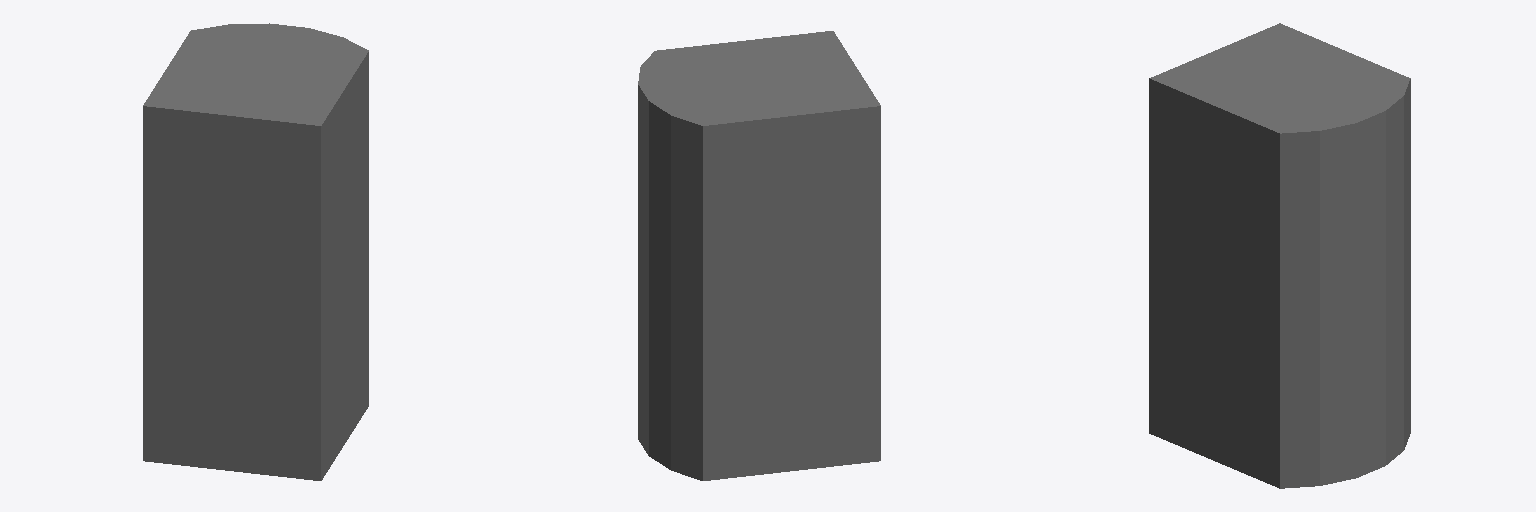
The model's file is Wall_Base_Inner_Curved.obj.
3 views of the same model, side by side, from view 1: azimuth 30°, elevation 25°; view 2: azimuth 150°, elevation 25°; view 3: azimuth 270°, elevation 25° (orthographic).
Parts seen in each view (by area): view 1: object1; view 2: object1; view 3: object1.
Part boxes in pixels (bbox=[...]): object1: bbox=[143, 23, 368, 480]; object1: bbox=[638, 31, 880, 480]; object1: bbox=[1149, 23, 1410, 488].
Size of the model in its own units: 0.2 by 0.3 by 0.2.